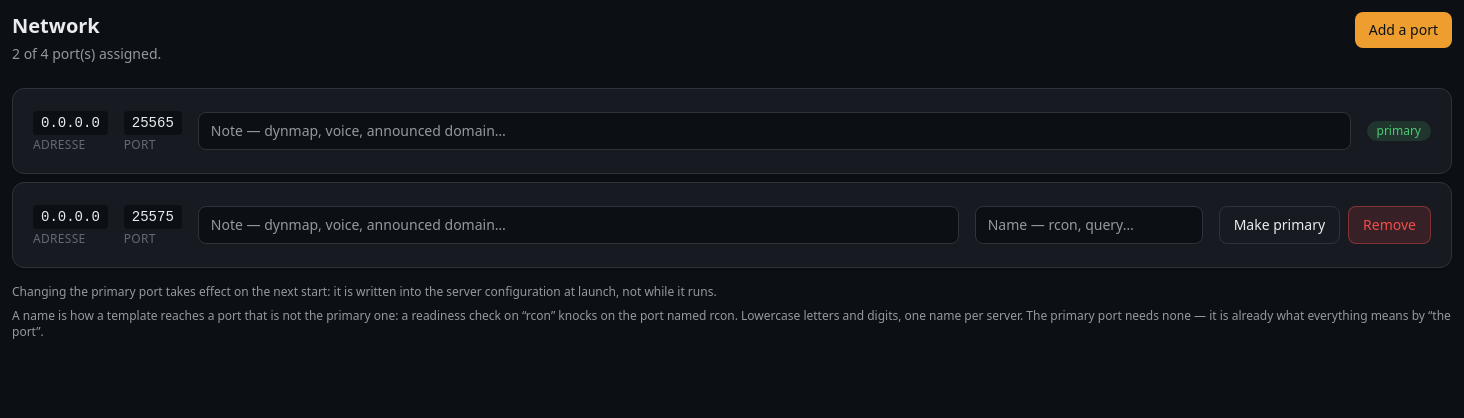
Test: naming a port › shows the refusal rather than a field that looks saved
The width and height of the screenshot is (1464, 418).
Type "rcon" into the field with placeholder "Name — rcon, query…" at (1089, 225), box [975, 206, 1203, 244]
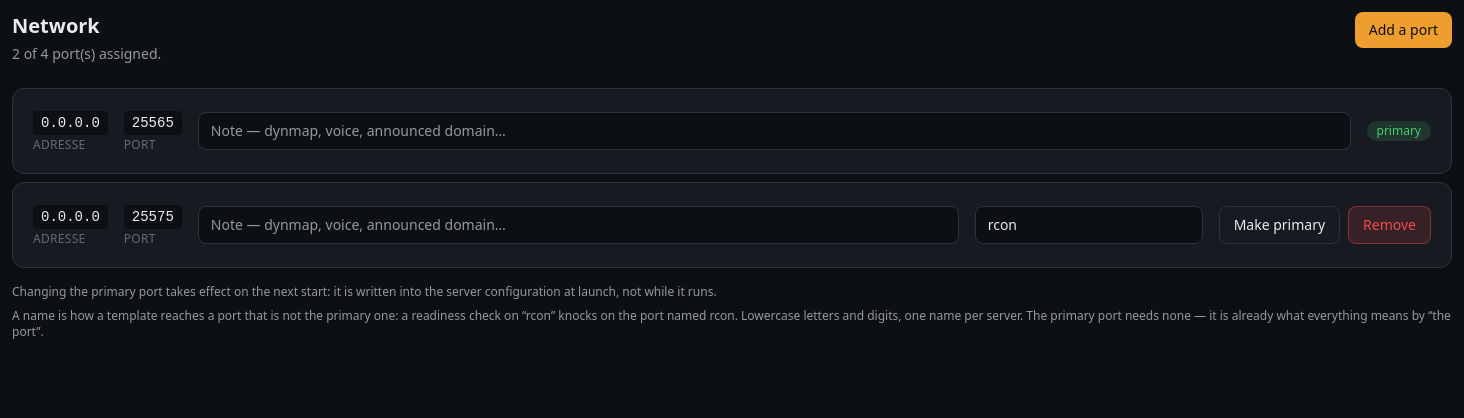
Leave the field with placeholder "Name — rcon, query…", box [975, 206, 1203, 244]
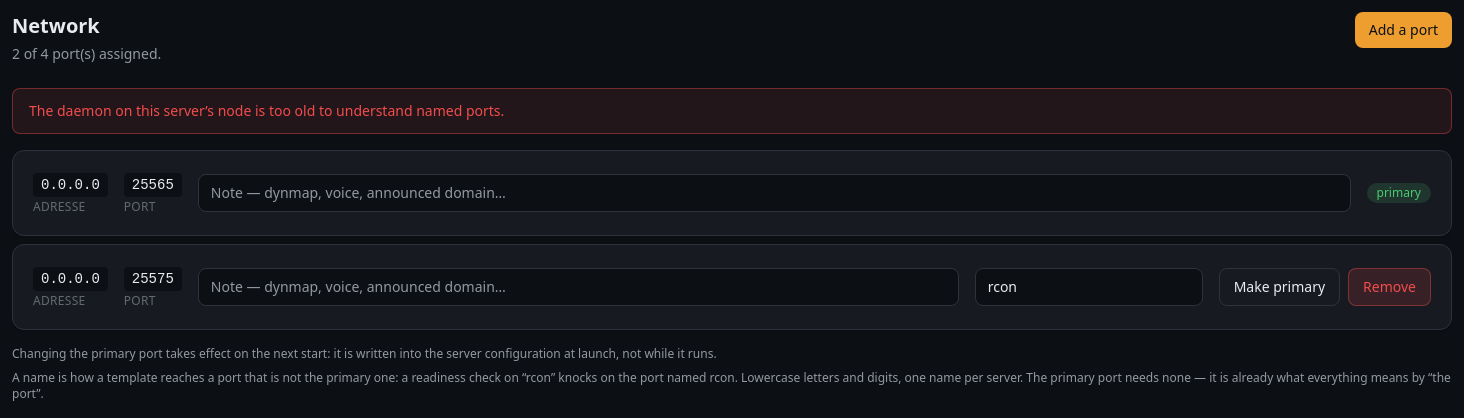
Check: the text "The daemon on this server’s node is too old to understand named ports." is shown, box [12, 88, 1452, 134]
